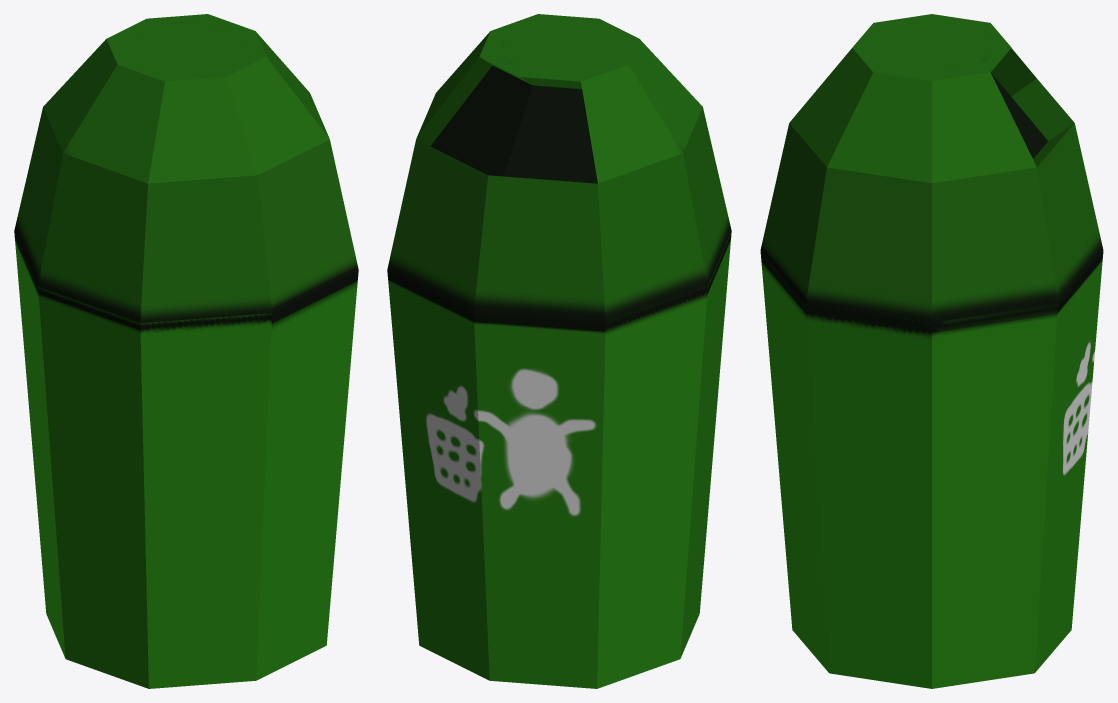
File: trash-can.fbx
3 renders of one model, left to right at view 1: azimuth 30°, elevation 25°; view 2: azimuth 150°, elevation 25°; view 3: azimuth 270°, elevation 25°, orthographic.
Visible parts, largest first — view 1: Cube; view 2: Cube; view 3: Cube.
Boxes of the visible parts, x1,y1,x2,y2 form: Cube: [14, 14, 358, 688]; Cube: [387, 14, 731, 688]; Cube: [760, 14, 1103, 688].
Size of the model in its own units: 246 by 460 by 246.
